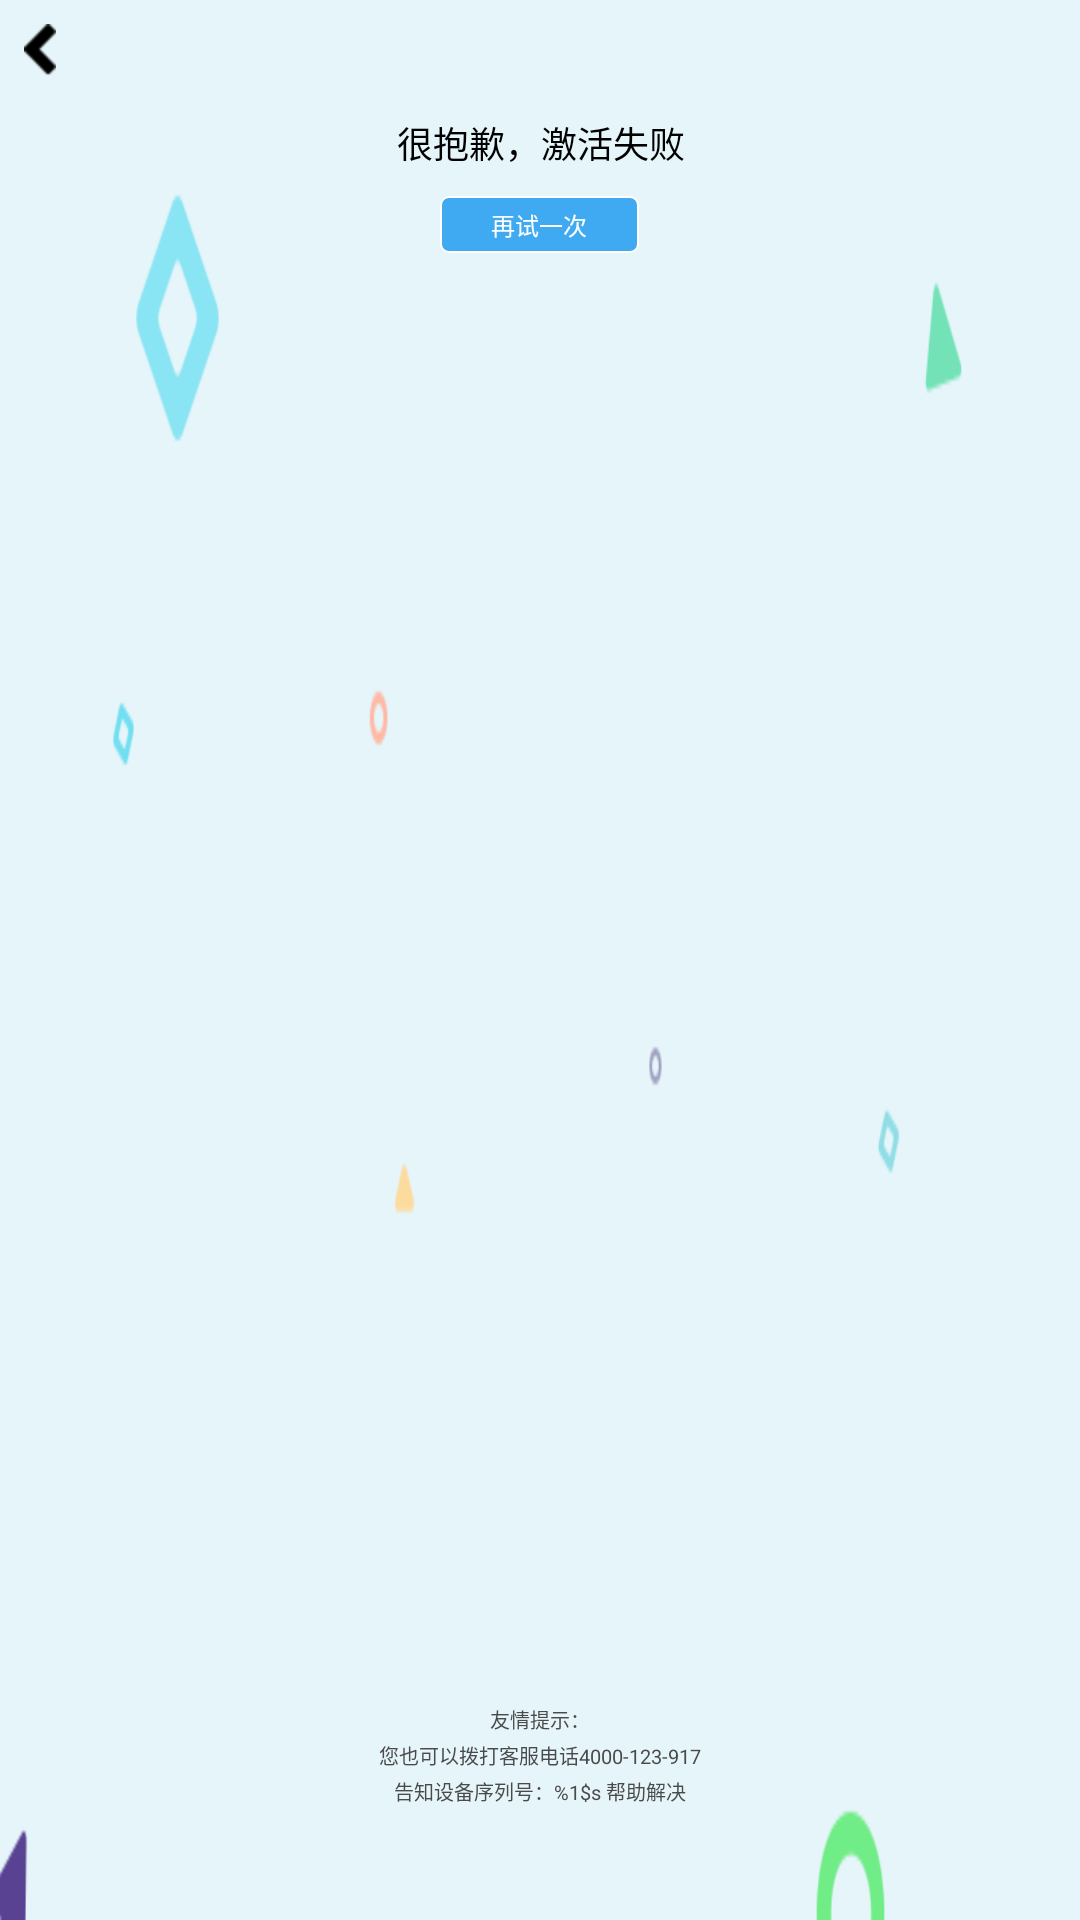

Icons on this 1080 × 1920 Android screen, each with its box as {"left": x1, "top": y1, "right": x2, "bottom": y2}:
go back: {"left": 24, "top": 24, "right": 56, "bottom": 75}
